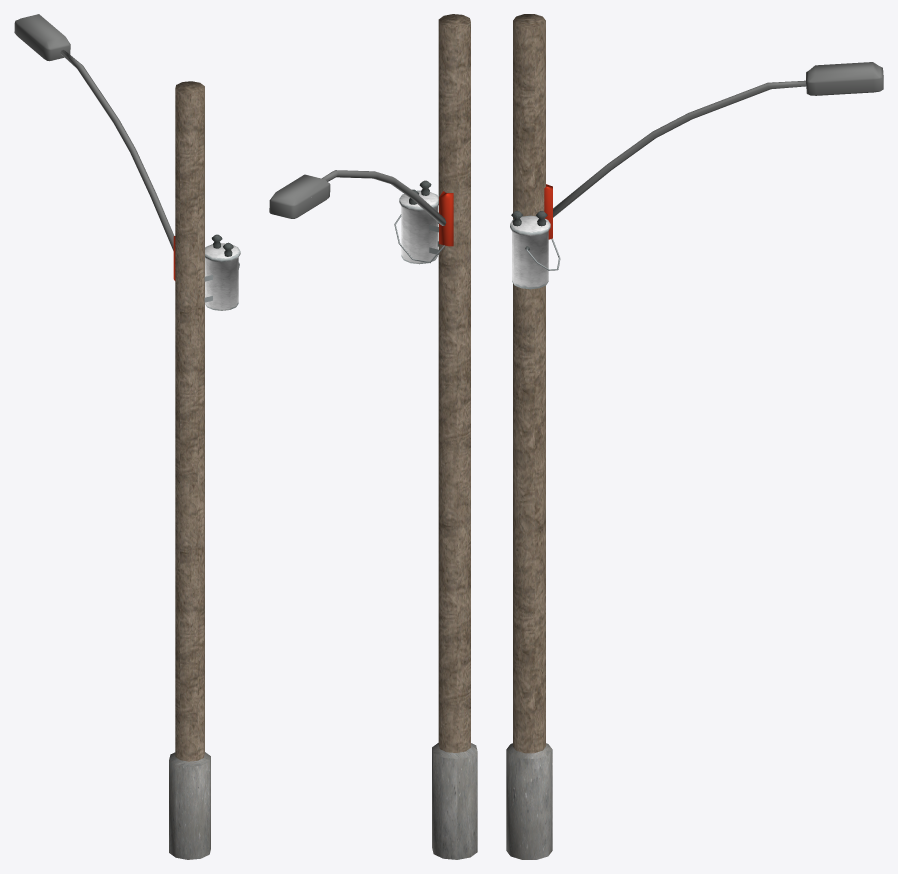
The model's file is light_pole_with_transformer.glb.
3 renders of one model, left to right at view 1: azimuth 30°, elevation 25°; view 2: azimuth 150°, elevation 25°; view 3: azimuth 270°, elevation 25°, orthographic. The views are drawn at different scales.
Parts seen in each view (by area): view 1: BasePole, Lamp, RoundedTransformer; view 2: BasePole, Lamp, RoundedTransformer; view 3: BasePole, Lamp, RoundedTransformer.
Part boxes in pixels (x1,y1,x2,y2): BasePole: (169,81,210,859); Lamp: (14,14,175,280); RoundedTransformer: (204,234,240,310); BasePole: (432,14,477,859); Lamp: (269,170,453,246); RoundedTransformer: (394,180,445,264); BasePole: (506,14,552,859); Lamp: (544,62,883,239); RoundedTransformer: (510,211,560,289).
Bounding box in the file's own units: 47.77 × 500 × 206.
Materials: 3 (3 with a texture image).
